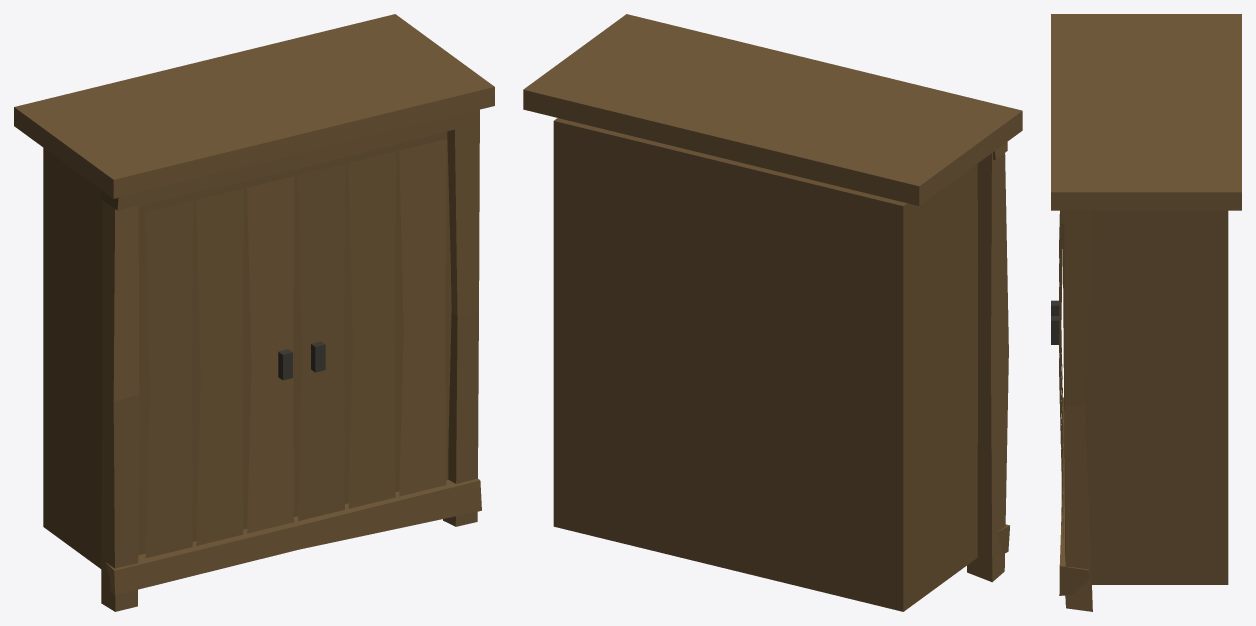
Rendered from home_Wardrobe.glb.
3 renders of one model, left to right at view 1: azimuth 30°, elevation 25°; view 2: azimuth 150°, elevation 25°; view 3: azimuth 270°, elevation 25°, orthographic. The views are drawn at different scales.
Visible parts, largest first — view 1: home_Wardrobe; view 2: home_Wardrobe; view 3: home_Wardrobe.
Part boxes in pixels (x1,y1,x2,y2): home_Wardrobe: (14, 14, 494, 611); home_Wardrobe: (523, 14, 1022, 611); home_Wardrobe: (1051, 14, 1241, 611).
Size of the model in its own units: 1.88 by 2.08 by 0.85.
